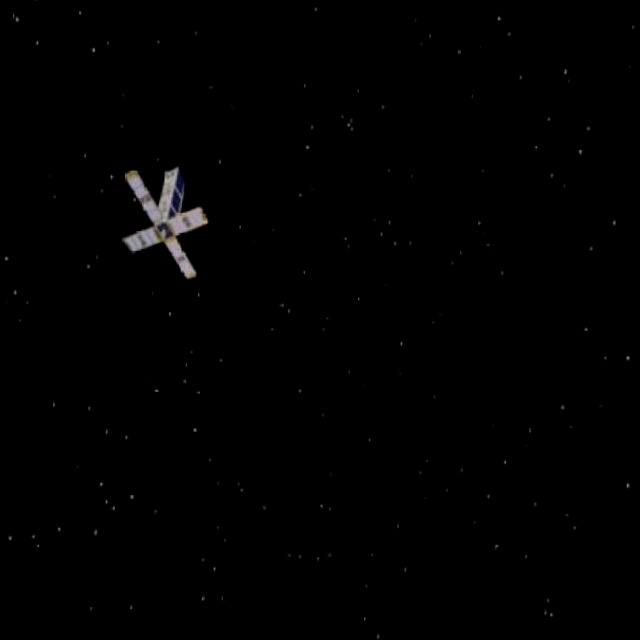satellite: (113, 165, 207, 290)
